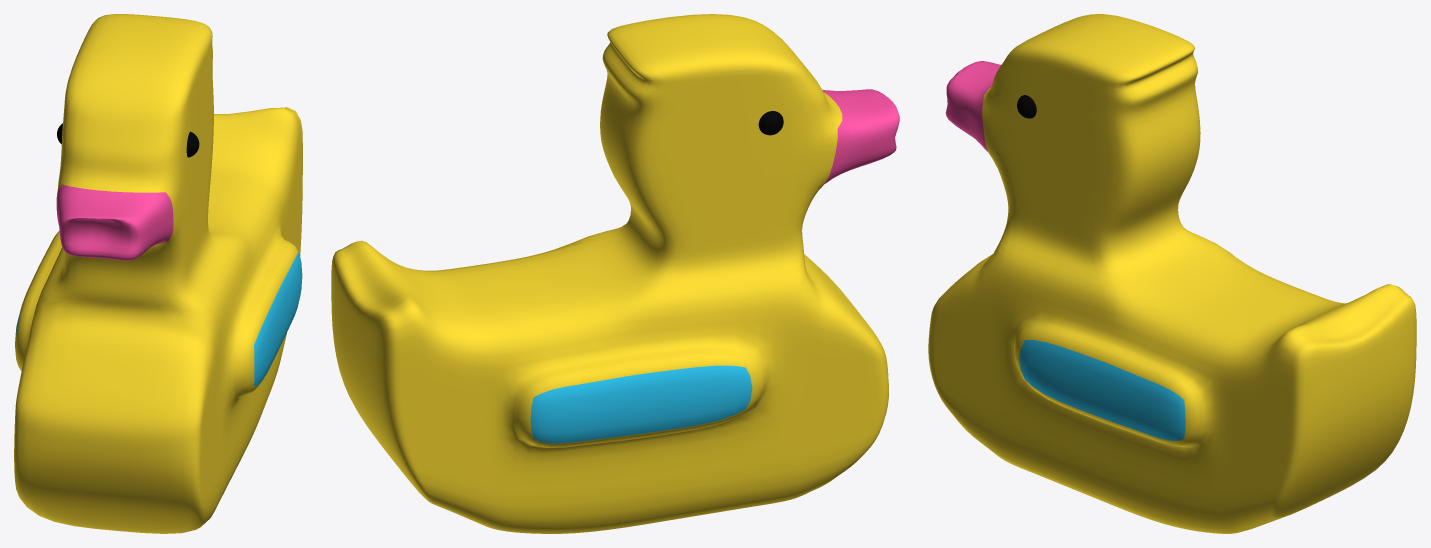
Rendered from ToyObject_011.fbx.
3 renders of one model, left to right at view 1: azimuth 30°, elevation 25°; view 2: azimuth 150°, elevation 25°; view 3: azimuth 270°, elevation 25°, orthographic. The views are drawn at different scales.
Parts seen in each view (by area): view 1: object-1.012; view 2: object-1.012; view 3: object-1.012.
Boxes of the visible parts, <box> form: object-1.012: <box>14,14,302,533</box>; object-1.012: <box>331,14,899,533</box>; object-1.012: <box>928,14,1416,533</box>.
Size of the model in its own units: 0.149 by 0.1558 by 0.1576.
